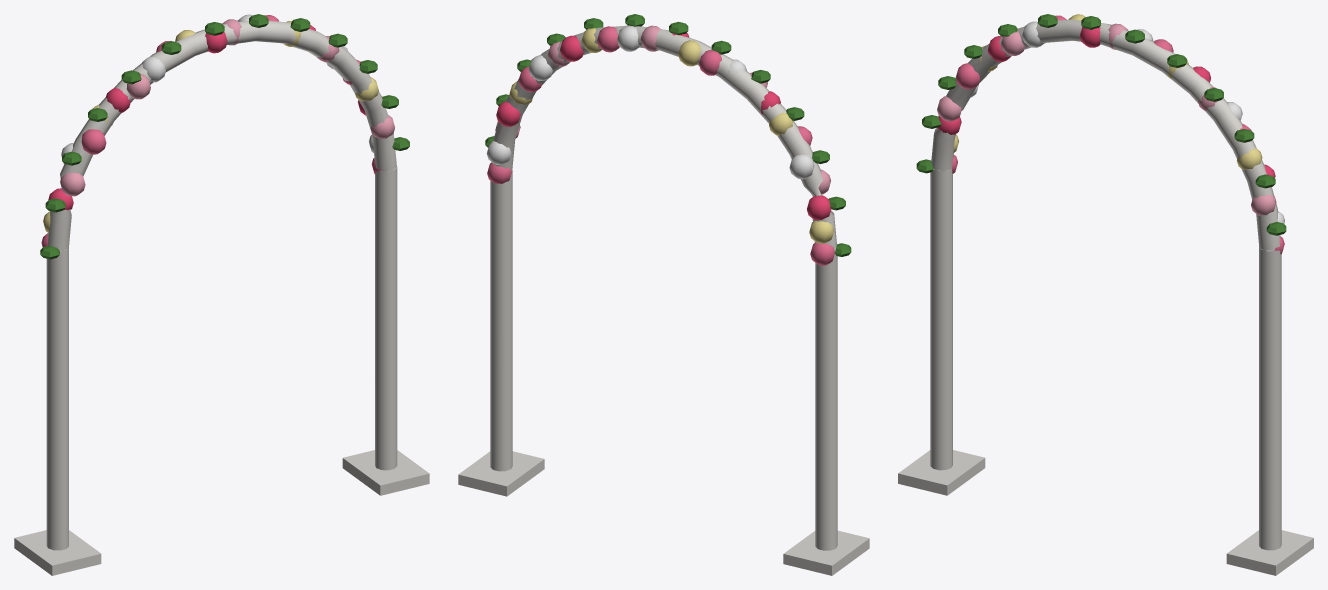
The model's file is wedding_arch.glb.
The picture shows the model from 3 angles, left to right: view 1: azimuth 30°, elevation 25°; view 2: azimuth 150°, elevation 25°; view 3: azimuth 330°, elevation 25°; orthographic projection.
Parts seen in each view (by area): view 1: main; view 2: main; view 3: main.
Boxes of the visible parts, x1,y1,x2,y2 form: main: (14, 14, 429, 575); main: (458, 14, 869, 575); main: (898, 14, 1313, 575).
Bounding box in the file's own units: 2.3 × 2.9 × 0.4.
